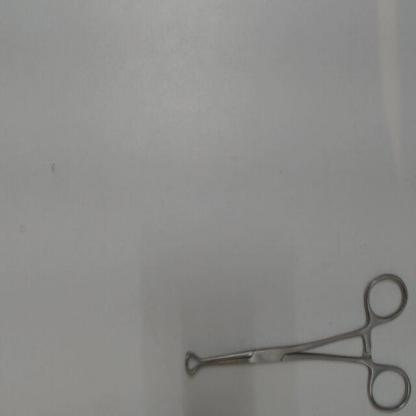Babcock Tissue Forceps: (180, 269, 414, 415)
